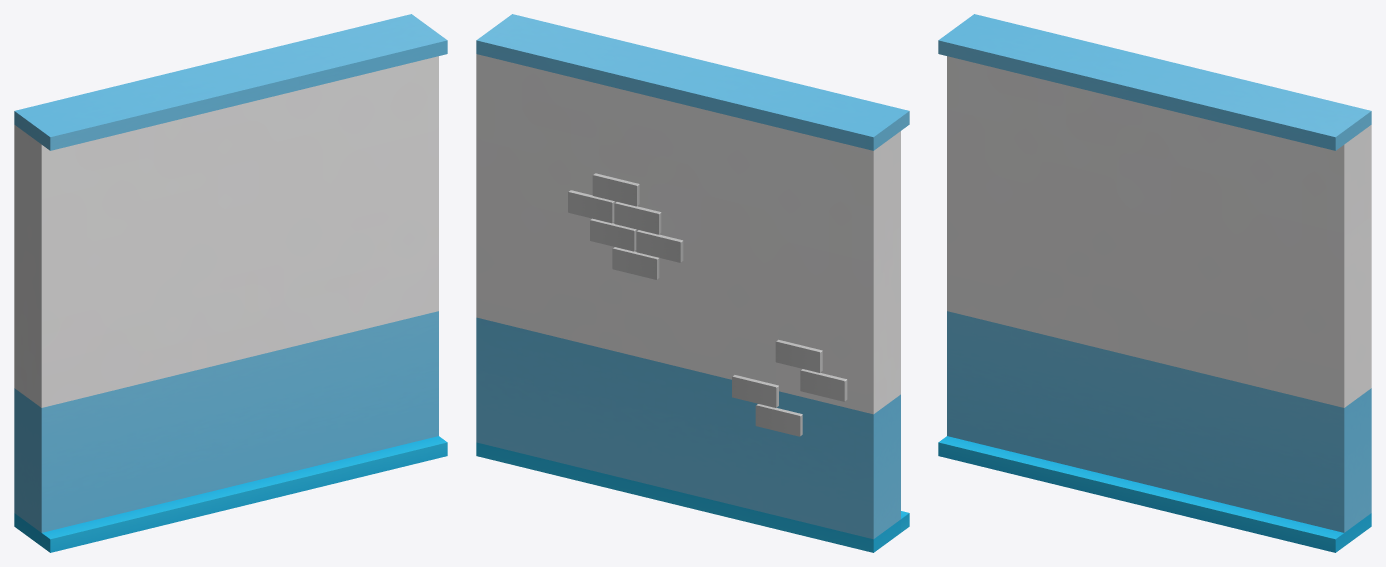
File: wall_2.dae
3 views of the same model, side by side, from view 1: azimuth 30°, elevation 25°; view 2: azimuth 150°, elevation 25°; view 3: azimuth 330°, elevation 25° (orthographic).
Visible parts, largest first — view 1: wall_2; view 2: wall_2, bricks; view 3: wall_2.
Boxes of the visible parts, x1=… form: wall_2: x1=14, y1=14, x2=447, y2=552; wall_2: x1=476, y1=14, x2=909, y2=552; bricks: x1=568, y1=173, x2=847, y2=436; wall_2: x1=938, y1=14, x2=1371, y2=552.
Bounding box in the file's own units: 2 × 0.3357 × 2.
